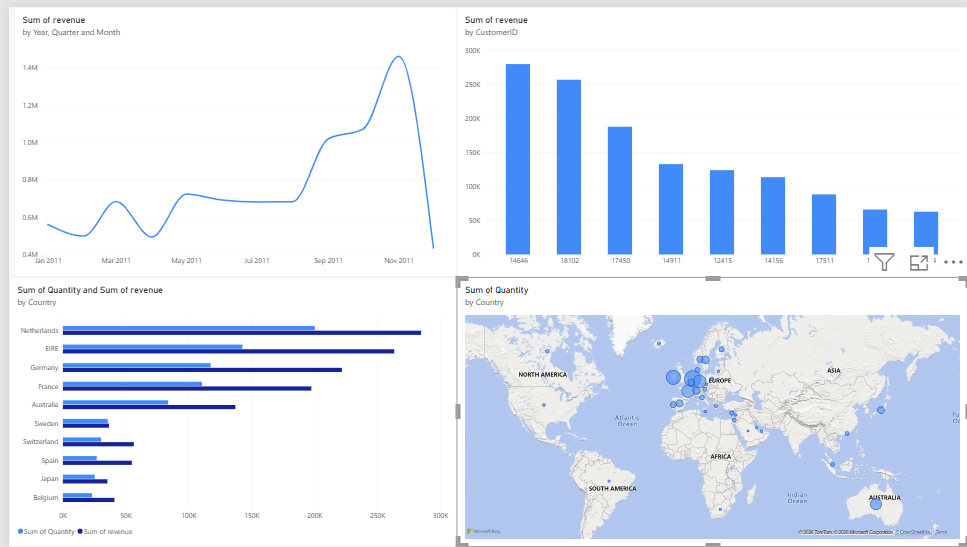

This screenshot's page, from the dashboard's own definition file:
{"tool":"powerbi","page":{"name":"Page 1","canvas":[1920,1080],"ordinal":0},"visuals":[{"type":"lineChart","fields":{"Category":["Online Retail Data Set.InvoiceDate.Variation.Date Hierarchy.Year","Online Retail Data Set.InvoiceDate.Variation.Date Hierarchy.Quarter","Online Retail Data Set.InvoiceDate.Variation.Date Hierarchy.Month"],"Y":["Sum(Online Retail Data Set.revenue)"]},"box":[10,0,886,540],"z":0},{"type":"clusteredBarChart","fields":{"Category":["Online Retail Data Set.Country"],"Y":["Sum(Online Retail Data Set.Quantity)","Sum(Online Retail Data Set.revenue)"]},"box":[0,540,896,540],"z":1000},{"type":"clusteredColumnChart","fields":{"Category":["Online Retail Data Set.CustomerID"],"Y":["Sum(Online Retail Data Set.revenue)"]},"box":[896,0,1024,540],"z":2000},{"type":"map","fields":{"Category":["Online Retail Data Set.Country"],"Size":["Sum(Online Retail Data Set.Quantity)"]},"box":[896,540,1024,540],"z":2001}]}

Visuals, with their boxes in screenshot pixels (x1, y1, x2, y2), scaled from the page's 1920x1080 canvas onto the 967x547 screenshot:
lineChart - Online Retail Data Set.InvoiceDate.Variation.Date Hierarchy.Year x Online Retail Data Set.InvoiceDate.Variation.Date Hierarchy.Quarter: {"left": 5, "top": 0, "right": 451, "bottom": 274}
clusteredBarChart - Online Retail Data Set.Country x Sum(Online Retail Data Set.Quantity): {"left": 0, "top": 274, "right": 451, "bottom": 546}
clusteredColumnChart - Online Retail Data Set.CustomerID x Sum(Online Retail Data Set.revenue): {"left": 451, "top": 0, "right": 966, "bottom": 274}
map - Online Retail Data Set.Country x Sum(Online Retail Data Set.Quantity): {"left": 451, "top": 274, "right": 966, "bottom": 546}
